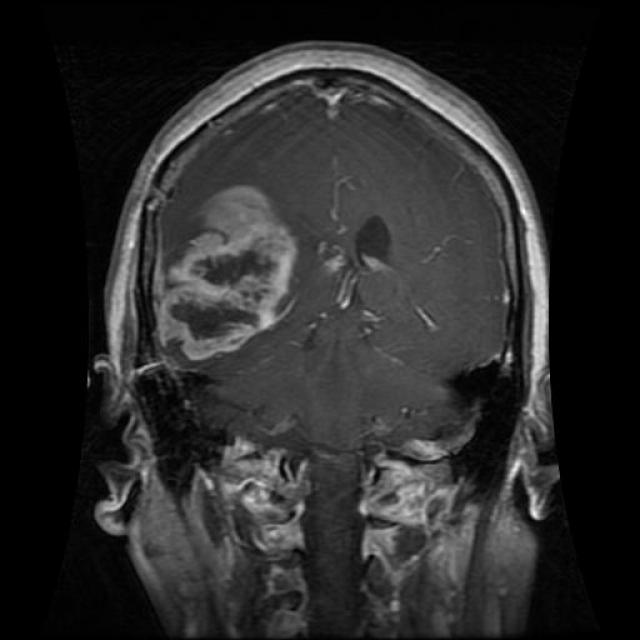Brain-Tumor: (158, 180, 308, 378)
